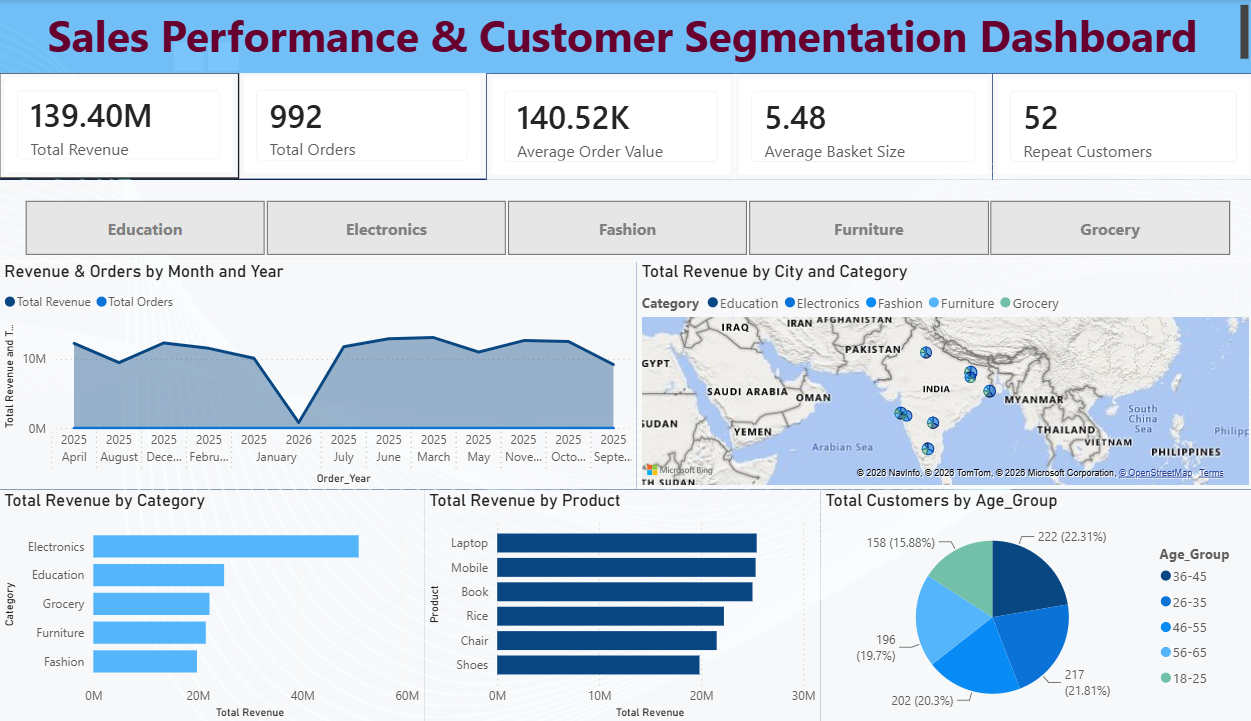

This screenshot's page, from the dashboard's own definition file:
{"tool":"powerbi","page":{"name":"Sales","canvas":[1280,720],"ordinal":0},"visuals":[{"type":"cardVisual","fields":{"Data":["cleaned_dataset.Total Revenue"]},"box":[31.6,72.7,238.8,105.7],"z":0},{"type":"cardVisual","fields":{"Data":["cleaned_dataset.Total Orders"]},"box":[270.3,72.7,245.6,105.7],"z":1000},{"type":"cardVisual","fields":{"Data":["cleaned_dataset.Average Order Value"]},"box":[515.7,72.9,247.1,105.7],"z":2000},{"type":"cardVisual","fields":{"Data":["cleaned_dataset.Average Basket Size"]},"box":[762.9,72.9,257.1,105.7],"z":3000},{"type":"cardVisual","fields":{"Data":["cleaned_dataset.Repeat Customers"]},"box":[1020,72.9,260,105.7],"z":4000},{"type":"slicer","fields":{"Values":["cleaned_dataset.Category"]},"box":[31.4,178.6,1248.6,81.4],"z":5000},{"type":"textbox","box":[31.4,0,1248.6,72.9],"z":6000},{"type":"clusteredBarChart","fields":{"Y":["cleaned_dataset.Total Revenue"],"Category":["cleaned_dataset.Category"]},"box":[31.4,487.1,422.9,232.9],"z":7000},{"type":"map","fields":{"Size":["cleaned_dataset.Total Revenue"],"Category":["cleaned_dataset.City"],"Series":["cleaned_dataset.Category"]},"box":[665.7,260,614.3,227.1],"z":8000},{"type":"pieChart","fields":{"Category":["cleaned_dataset.Age_Group"],"Y":["cleaned_dataset.Total Customers"]},"box":[848.6,487.1,431.4,232.9],"z":9000},{"type":"barChart","fields":{"Y":["cleaned_dataset.Total Revenue"],"Category":["cleaned_dataset.Product"]},"box":[454.3,487.1,394.3,232.9],"z":10000},{"type":"lineChart","title":"Revenue & Orders by Month and Year","fields":{"Y":["cleaned_dataset.Total Revenue","cleaned_dataset.Total Orders"],"Category":["cleaned_dataset.Order_Month_name","cleaned_dataset.Order_Year"]},"box":[31.4,260,634.3,227.1],"z":10001}]}

Visuals, with their boxes in screenshot pixels (x1, y1, x2, y2), scaled from the page's 1280x720 canvas onto the 1251x721 screenshot:
cardVisual - cleaned_dataset.Total Revenue: 31,73,264,179
cardVisual - cleaned_dataset.Total Orders: 264,73,504,179
cardVisual - cleaned_dataset.Average Order Value: 504,73,746,179
cardVisual - cleaned_dataset.Average Basket Size: 746,73,997,179
cardVisual - cleaned_dataset.Repeat Customers: 997,73,1250,179
slicer - cleaned_dataset.Category: 31,179,1250,260
textbox: 31,0,1250,73
clusteredBarChart - cleaned_dataset.Total Revenue x cleaned_dataset.Category: 31,488,444,720
map - cleaned_dataset.Total Revenue x cleaned_dataset.City: 651,260,1250,488
pieChart - cleaned_dataset.Age_Group x cleaned_dataset.Total Customers: 829,488,1250,720
barChart - cleaned_dataset.Total Revenue x cleaned_dataset.Product: 444,488,829,720
"Revenue & Orders by Month and Year" lineChart: 31,260,651,488
